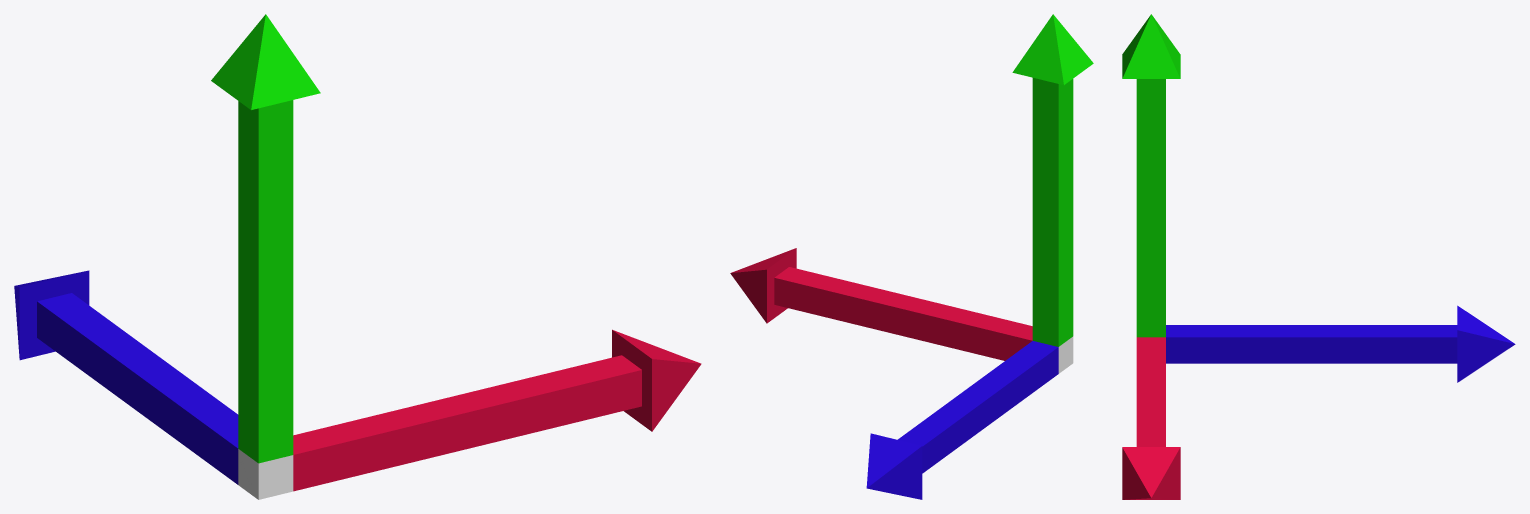
File: Axis_Model.glb
The picture shows the model from 3 angles, left to right: view 1: azimuth 30°, elevation 25°; view 2: azimuth 150°, elevation 25°; view 3: azimuth 270°, elevation 25°; orthographic projection. The views are drawn at different scales.
Parts seen in each view (by area): view 1: Cube; view 2: Cube; view 3: Cube.
Boxes of the visible parts, box(x1,y1,x2,y2) form: Cube: box(14, 14, 701, 499); Cube: box(730, 14, 1093, 499); Cube: box(1122, 14, 1515, 499).
Size of the model in its own units: 27 by 27 by 27.
